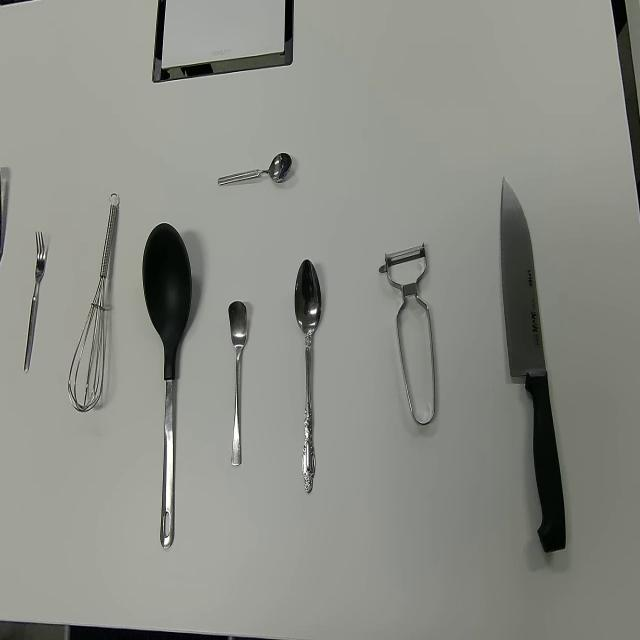Desert-Spoon: (294, 258, 322, 494)
Dinner-Fork: (22, 230, 46, 374)
Kitchen-Knife: (499, 176, 566, 555)
Peeler: (379, 242, 436, 426)
Serving-Spoon: (142, 222, 193, 549)
Tea-Spoon: (227, 299, 248, 467), (217, 152, 293, 190)
Whisk: (67, 192, 121, 414)
